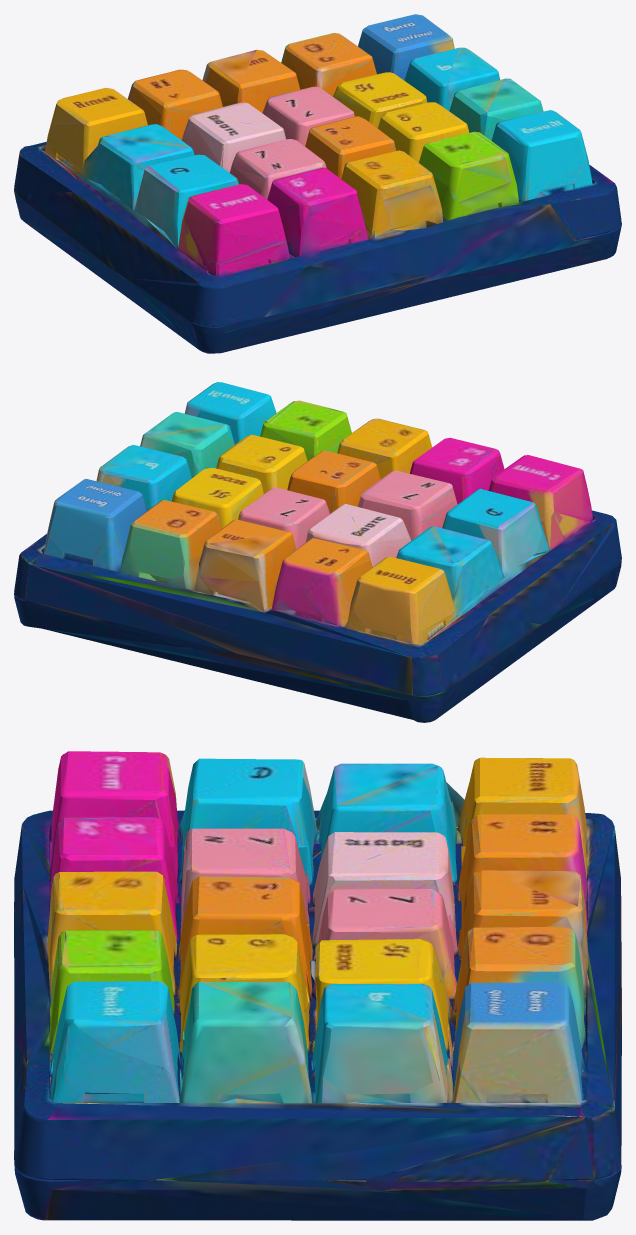
Rendered from addy_clicker.glb.
3 views of the same model, one above another, from view 1: azimuth 30°, elevation 25°; view 2: azimuth 150°, elevation 25°; view 3: azimuth 270°, elevation 25° (orthographic). The views are drawn at different scales.
Size of the model in its own units: 1.9 by 0.5239 by 1.54.
Materials: 1 (1 with a texture image).
